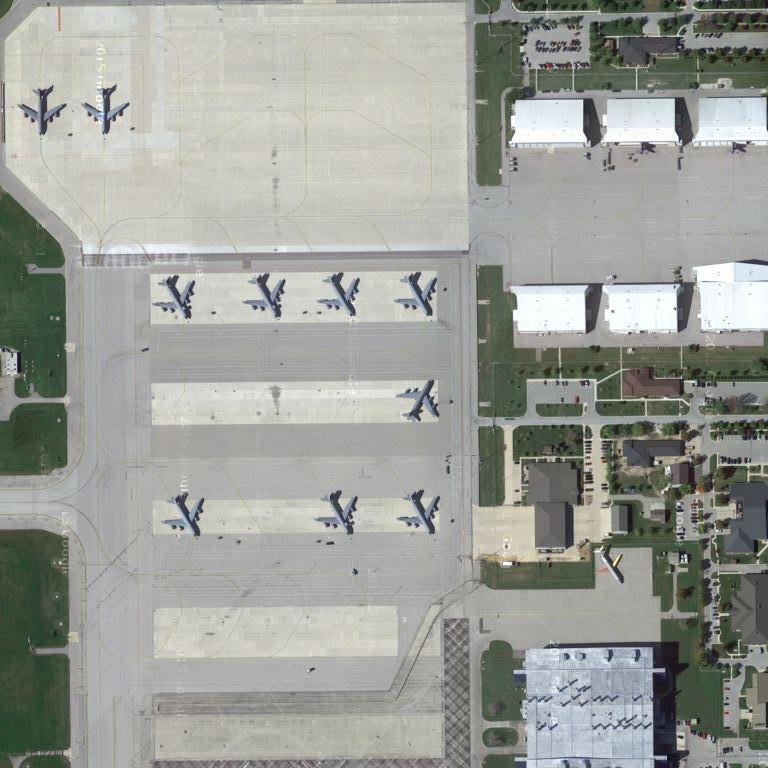KC-135: (18, 82, 68, 142), (82, 82, 132, 139), (395, 487, 447, 534), (242, 272, 292, 319), (395, 377, 443, 425), (162, 489, 209, 538), (392, 271, 443, 316), (316, 490, 365, 536), (318, 270, 363, 319), (153, 276, 199, 319)
